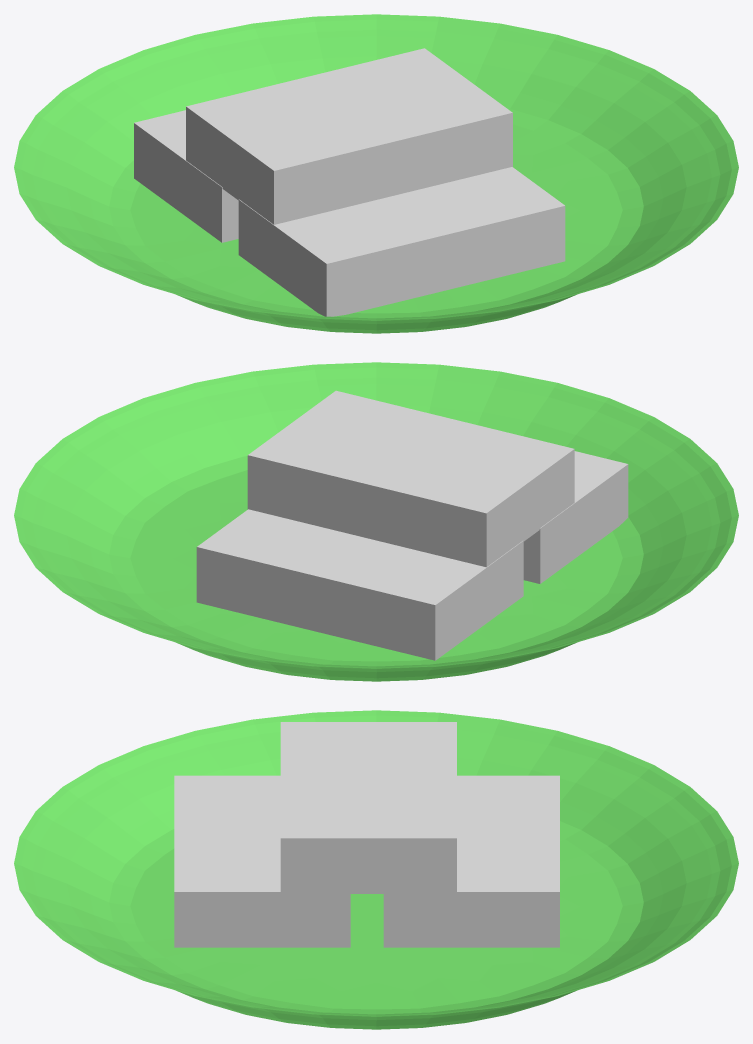
Rendered from koya ijo.fbx.
3 views of the same model, one above another, from view 1: azimuth 30°, elevation 25°; view 2: azimuth 150°, elevation 25°; view 3: azimuth 270°, elevation 25° (orthographic).
Visible parts, largest first — view 1: Cylinder, Cube.002, Cube, Cube.001; view 2: Cylinder, Cube.002, Cube.001, Cube; view 3: Cylinder, Cube.002, Cube, Cube.001.
Boxes of the visible parts, bbox=[...] form: Cylinder: bbox=[14, 14, 738, 333]; Cube.002: bbox=[186, 48, 512, 224]; Cube: bbox=[238, 167, 565, 316]; Cube.001: bbox=[134, 110, 238, 242]; Cylinder: bbox=[14, 362, 738, 681]; Cube.002: bbox=[247, 390, 574, 567]; Cube.001: bbox=[196, 509, 523, 660]; Cube: bbox=[523, 451, 628, 583]; Cylinder: bbox=[14, 710, 738, 1029]; Cube.002: bbox=[280, 722, 456, 893]; Cube: bbox=[174, 775, 350, 947]; Cube.001: bbox=[383, 775, 559, 947].
Bounding box in the file's own units: 231 × 45.75 × 231.
